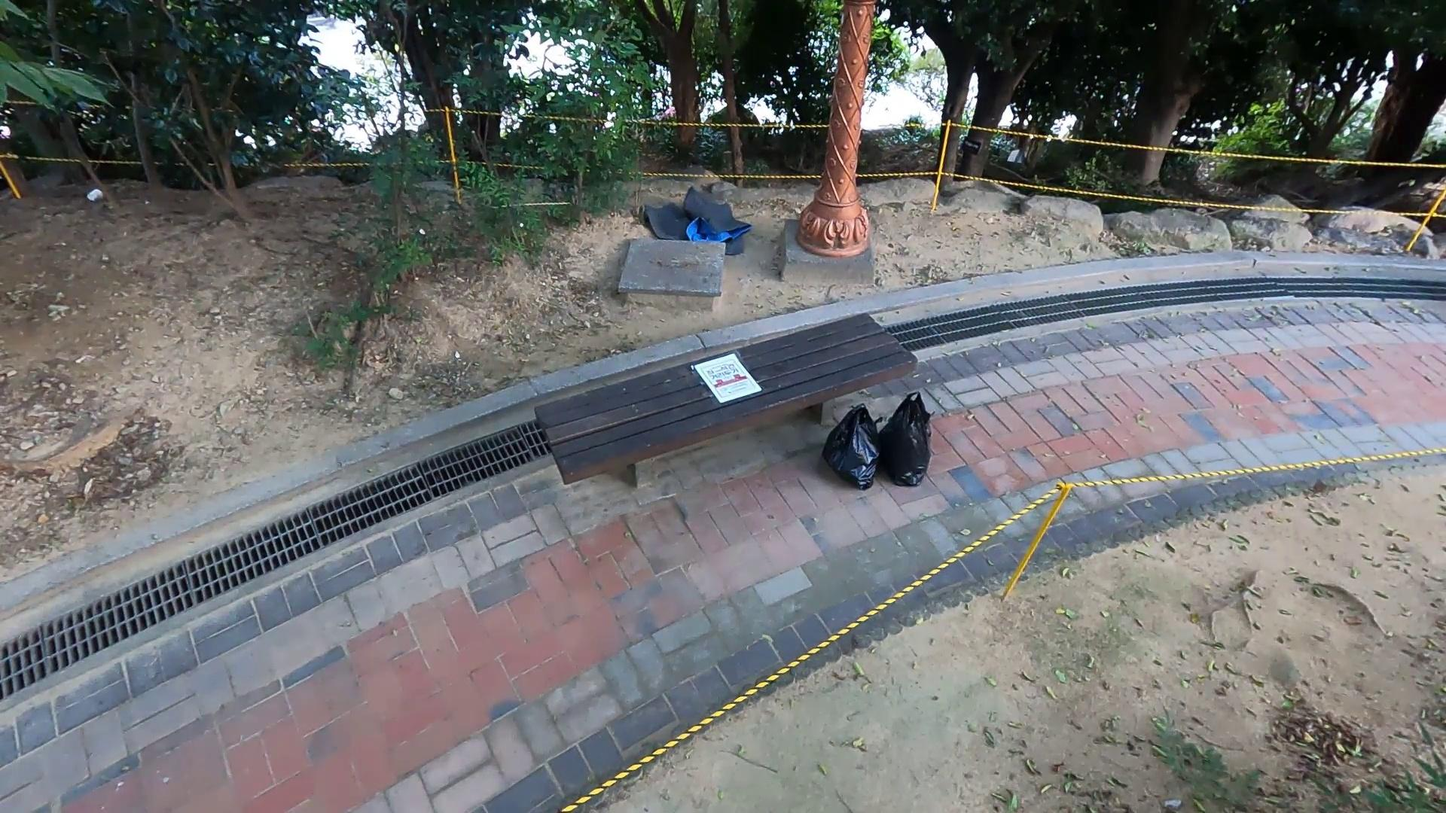trash: (875, 391, 938, 496), (821, 397, 886, 491)
